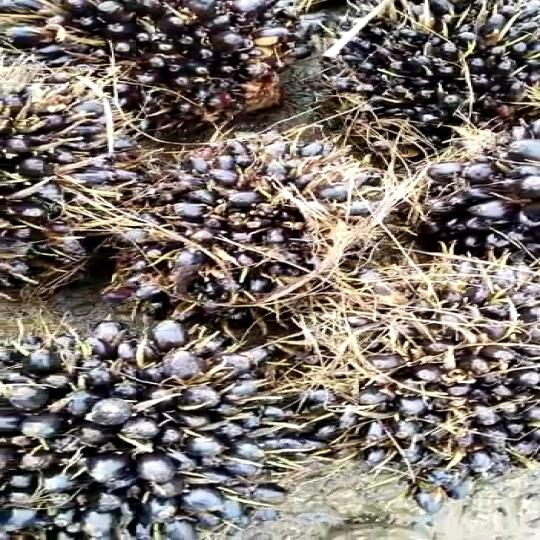mentah: (264, 228, 535, 510), (286, 0, 540, 282), (0, 322, 322, 539), (115, 119, 374, 328), (21, 0, 333, 147), (0, 42, 144, 318)
